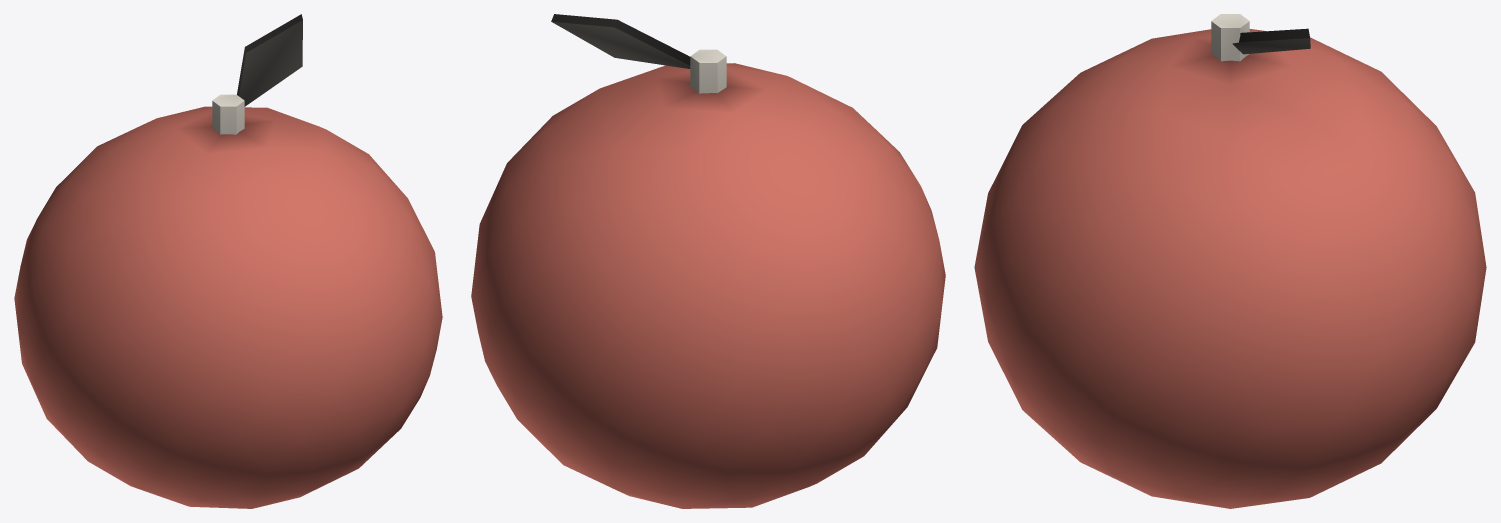
File: nd_orange.glb
The picture shows the model from 3 angles, left to right: view 1: azimuth 30°, elevation 25°; view 2: azimuth 150°, elevation 25°; view 3: azimuth 270°, elevation 25°; orthographic projection. The views are drawn at different scales.
Parts seen in each view (by area): view 1: PART; view 2: PART; view 3: PART.
Part boxes in pixels (x1,y1,x2,y2): PART: (14, 14, 442, 508); PART: (471, 14, 945, 508); PART: (974, 14, 1486, 508).
Bounding box in the file's own units: 0.106 × 0.1155 × 0.106.
